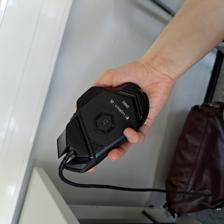mouse: (56, 81, 150, 172)
